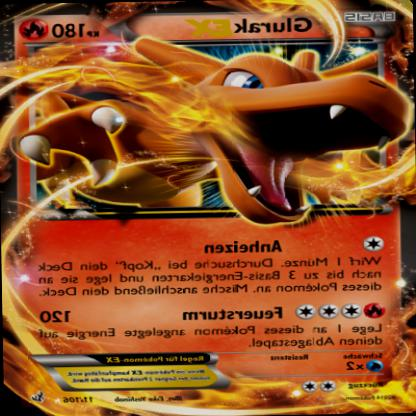Charizard: (10, 44, 415, 209)
